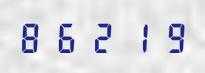eight: (18, 20, 51, 53)
nine: (154, 20, 187, 53)
one: (120, 20, 153, 53)
six: (52, 20, 85, 53)
two: (86, 20, 119, 53)
